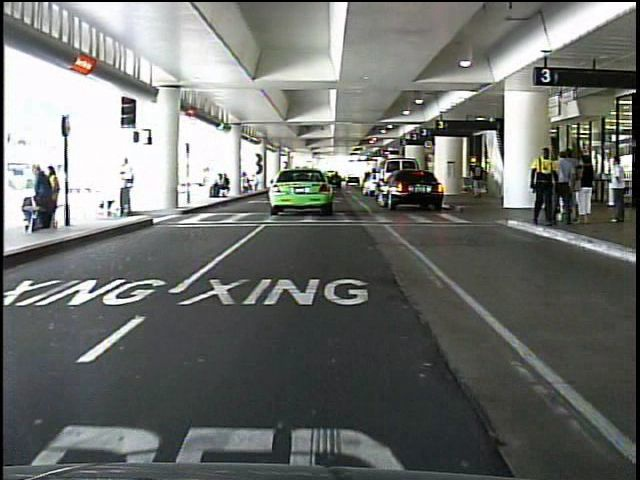person: (523, 146, 560, 236), (603, 152, 634, 225), (552, 145, 577, 233), (113, 158, 146, 224), (575, 152, 594, 231), (467, 157, 492, 205)
